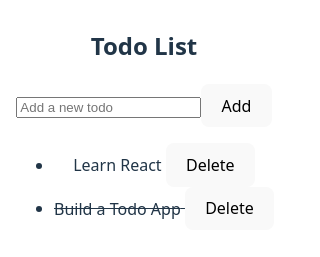
Test: TodoList Component › adds a new todo
Type "New Task" into the field with placeholder "Add a new todo" at (109, 107), box [16, 97, 201, 118]
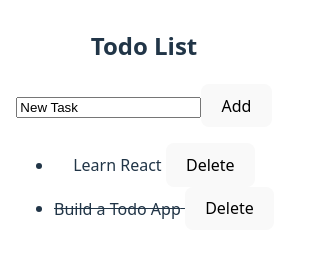
Click the button "Add" at (237, 106), box [201, 84, 272, 127]
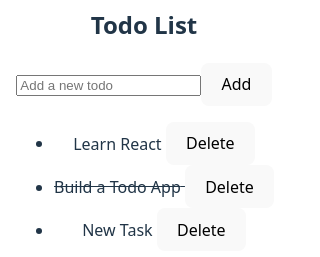
Expected: the list item "New Task" is shown, [82, 219, 153, 241]
